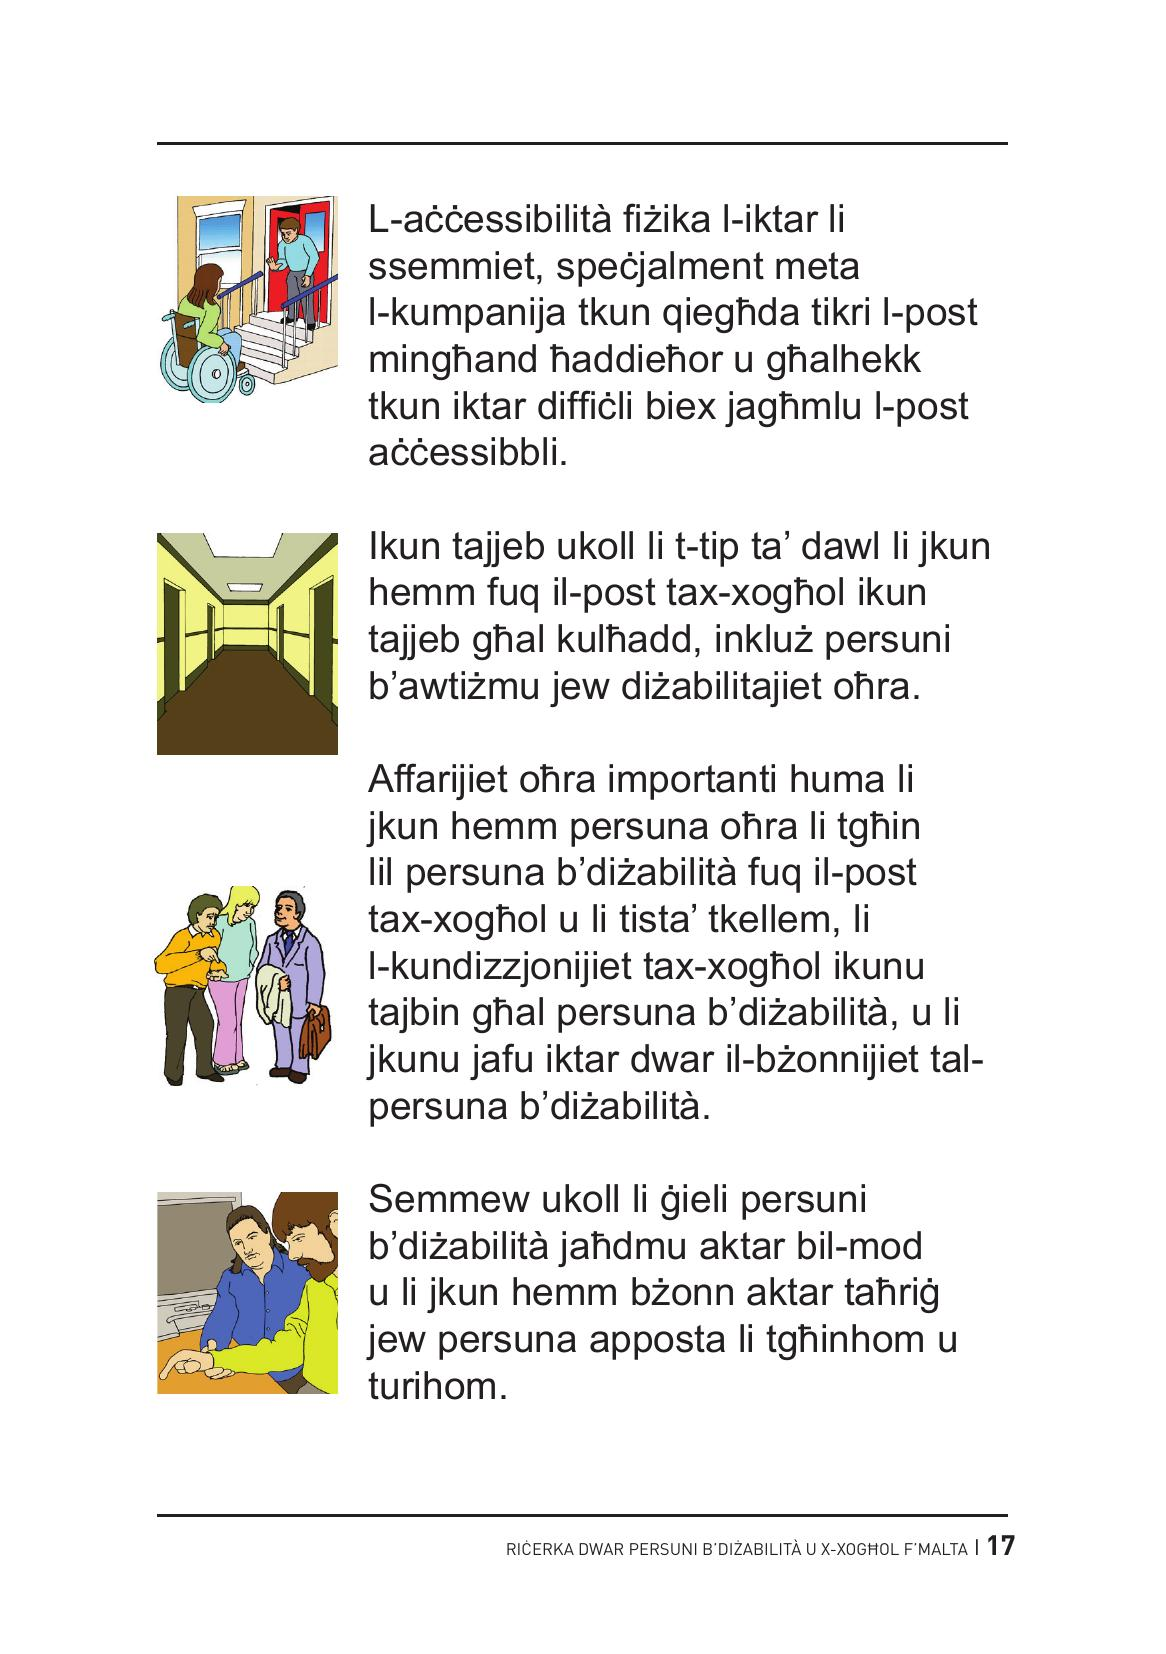text: (348, 187, 1001, 1445)
